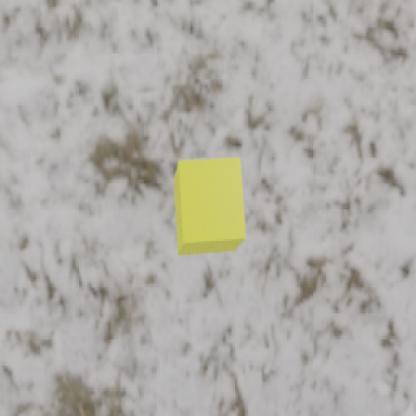cube: (173, 156, 246, 255)
